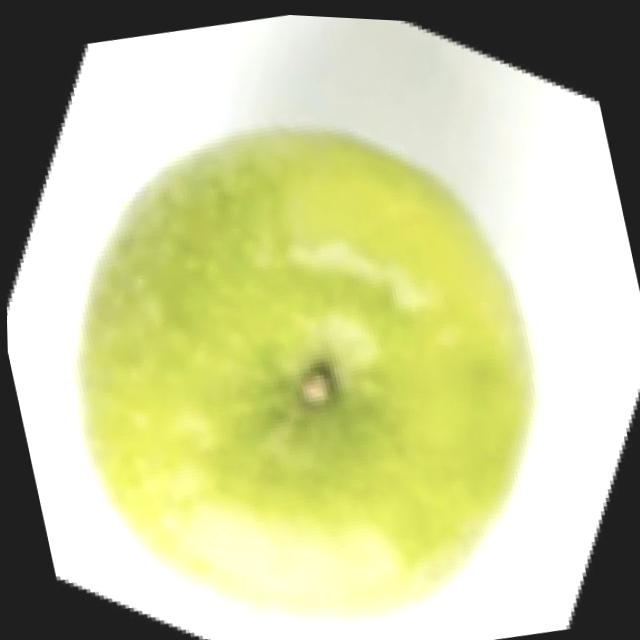Apple: (20, 71, 582, 640)
